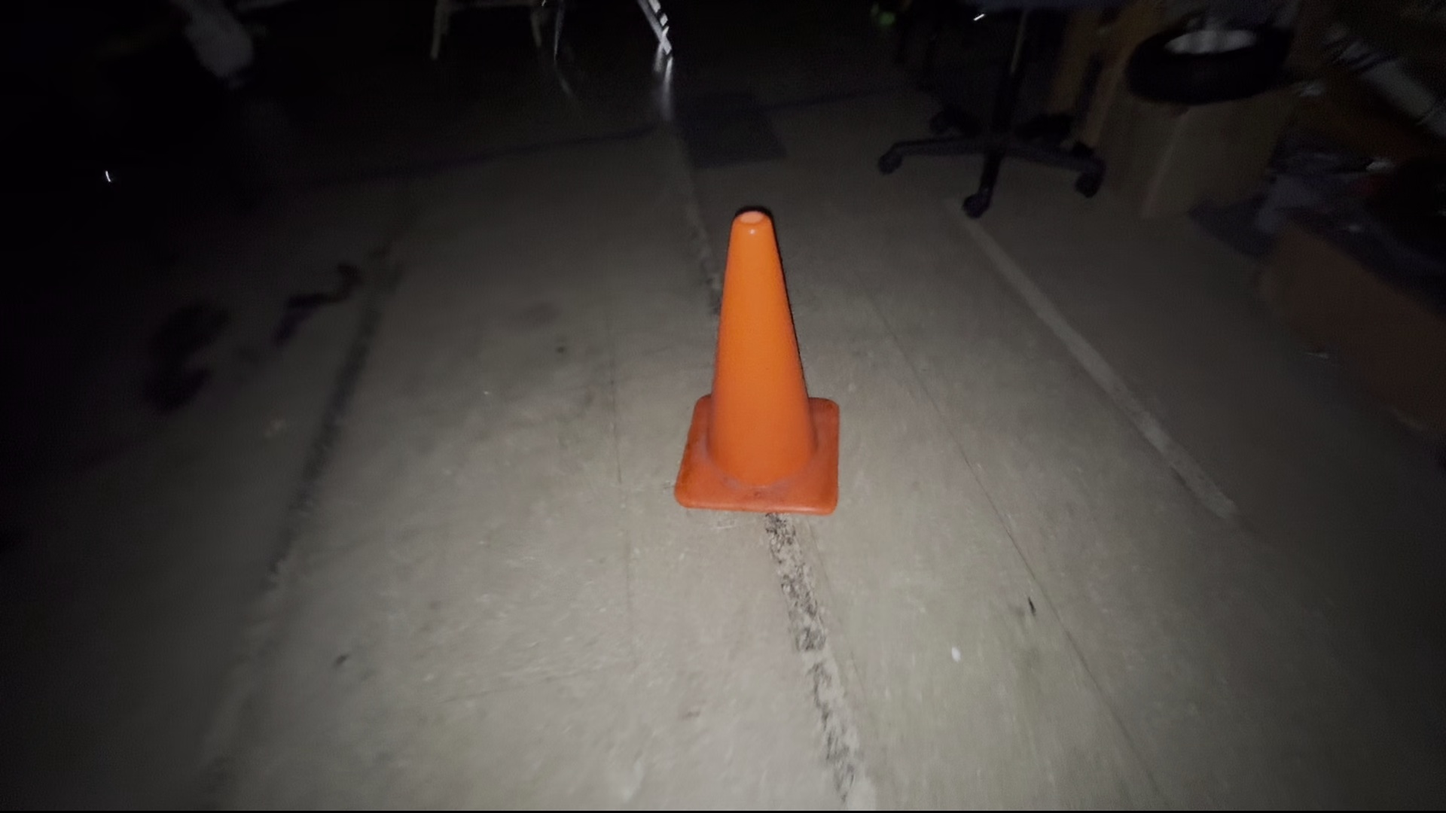traffic_cone: (673, 206, 841, 516)
